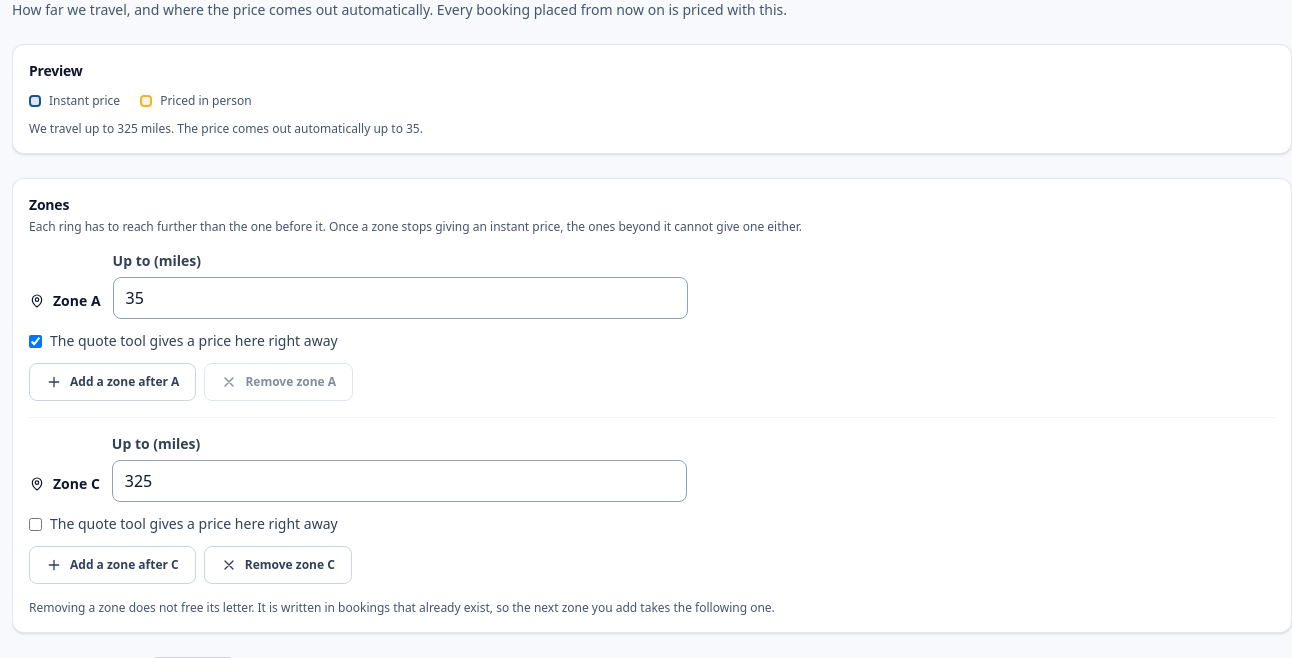
el area de servicio: anadir y quitar zonas › una vez puesta la B ya no cabe nada entre A y B
Click the button "Add a zone after A" at x=113, y=382, box top-left (29, 363), bottom-right (196, 401)
(page scrolled)
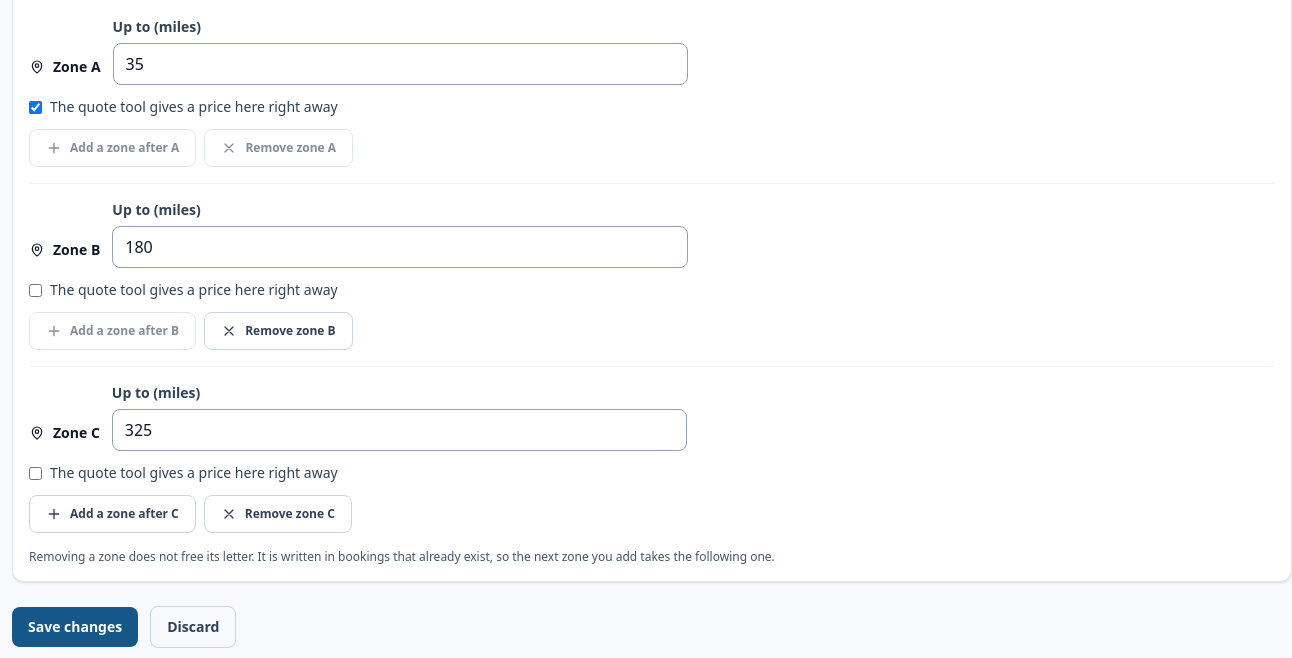
expect the button "Add a zone after C" is enabled: met, box top-left (29, 495), bottom-right (196, 533)
expect the button "Add a zone after A" is disabled: met, box top-left (29, 129), bottom-right (196, 167)
expect the button "Add a zone after B" is disabled: met, box top-left (29, 312), bottom-right (196, 350)
